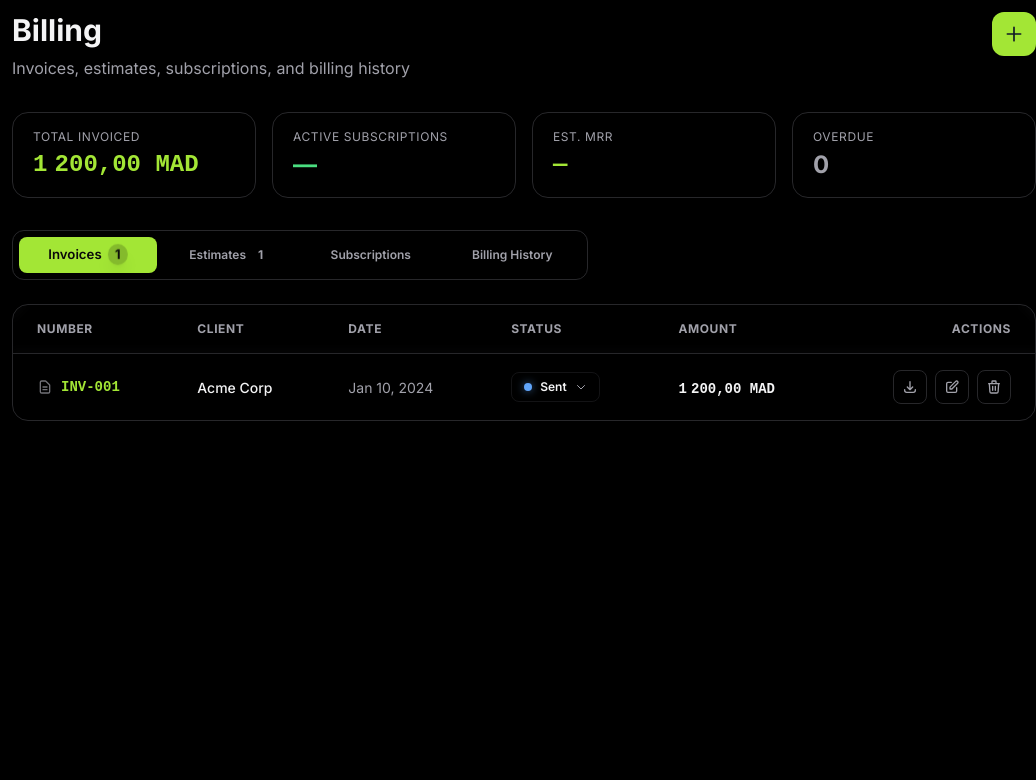
it: BillingPage › switches to billing history tab
Click the button "Billing History": (512, 255) [444,237,581,273]
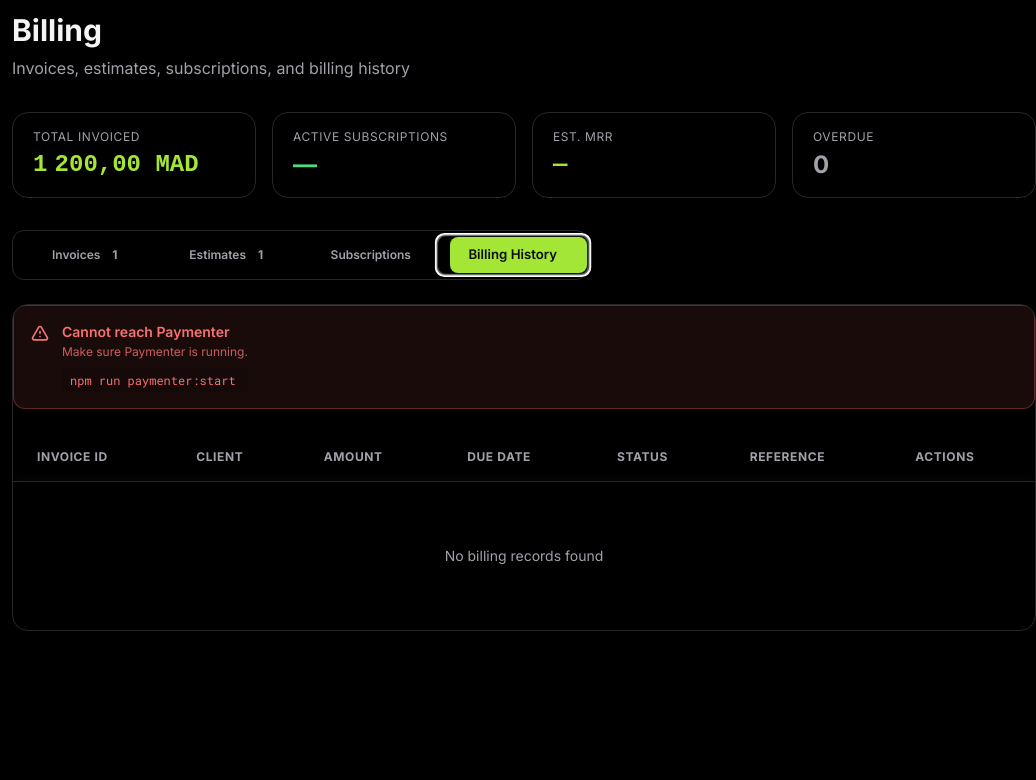
Check: the table named "billing history" is shown, box [13,433,1035,630]
